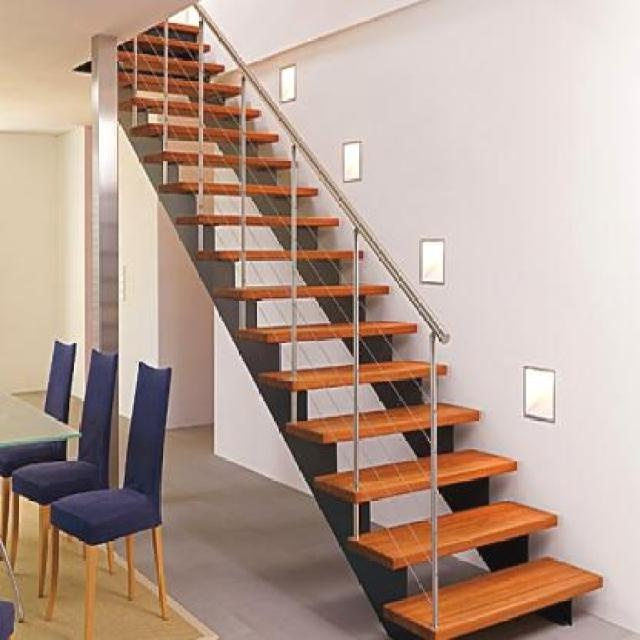stair: (78, 0, 607, 638)
